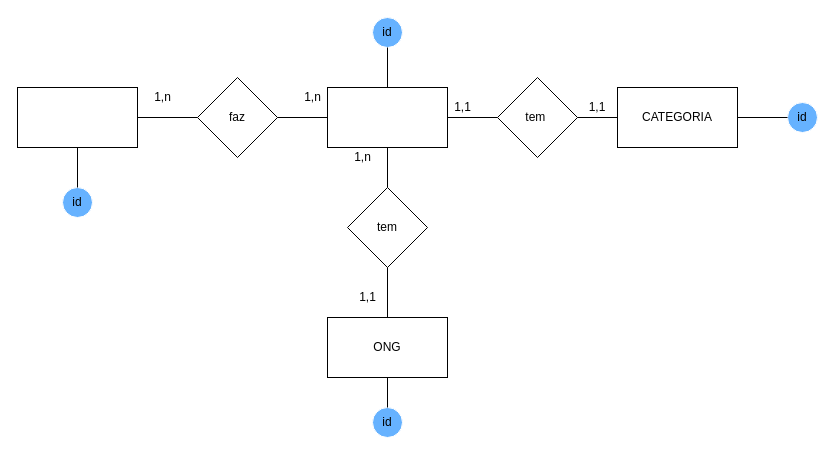
The diagram is 835 pixels wide and 455 high, and some of its shapes have lost their labels. The shapes that lost their labels are listed below. From the top down, each one's centre as x and y in pixels, then its label:
pixel 77 117: DOADOR
pixel 387 117: DOAÇÃO
